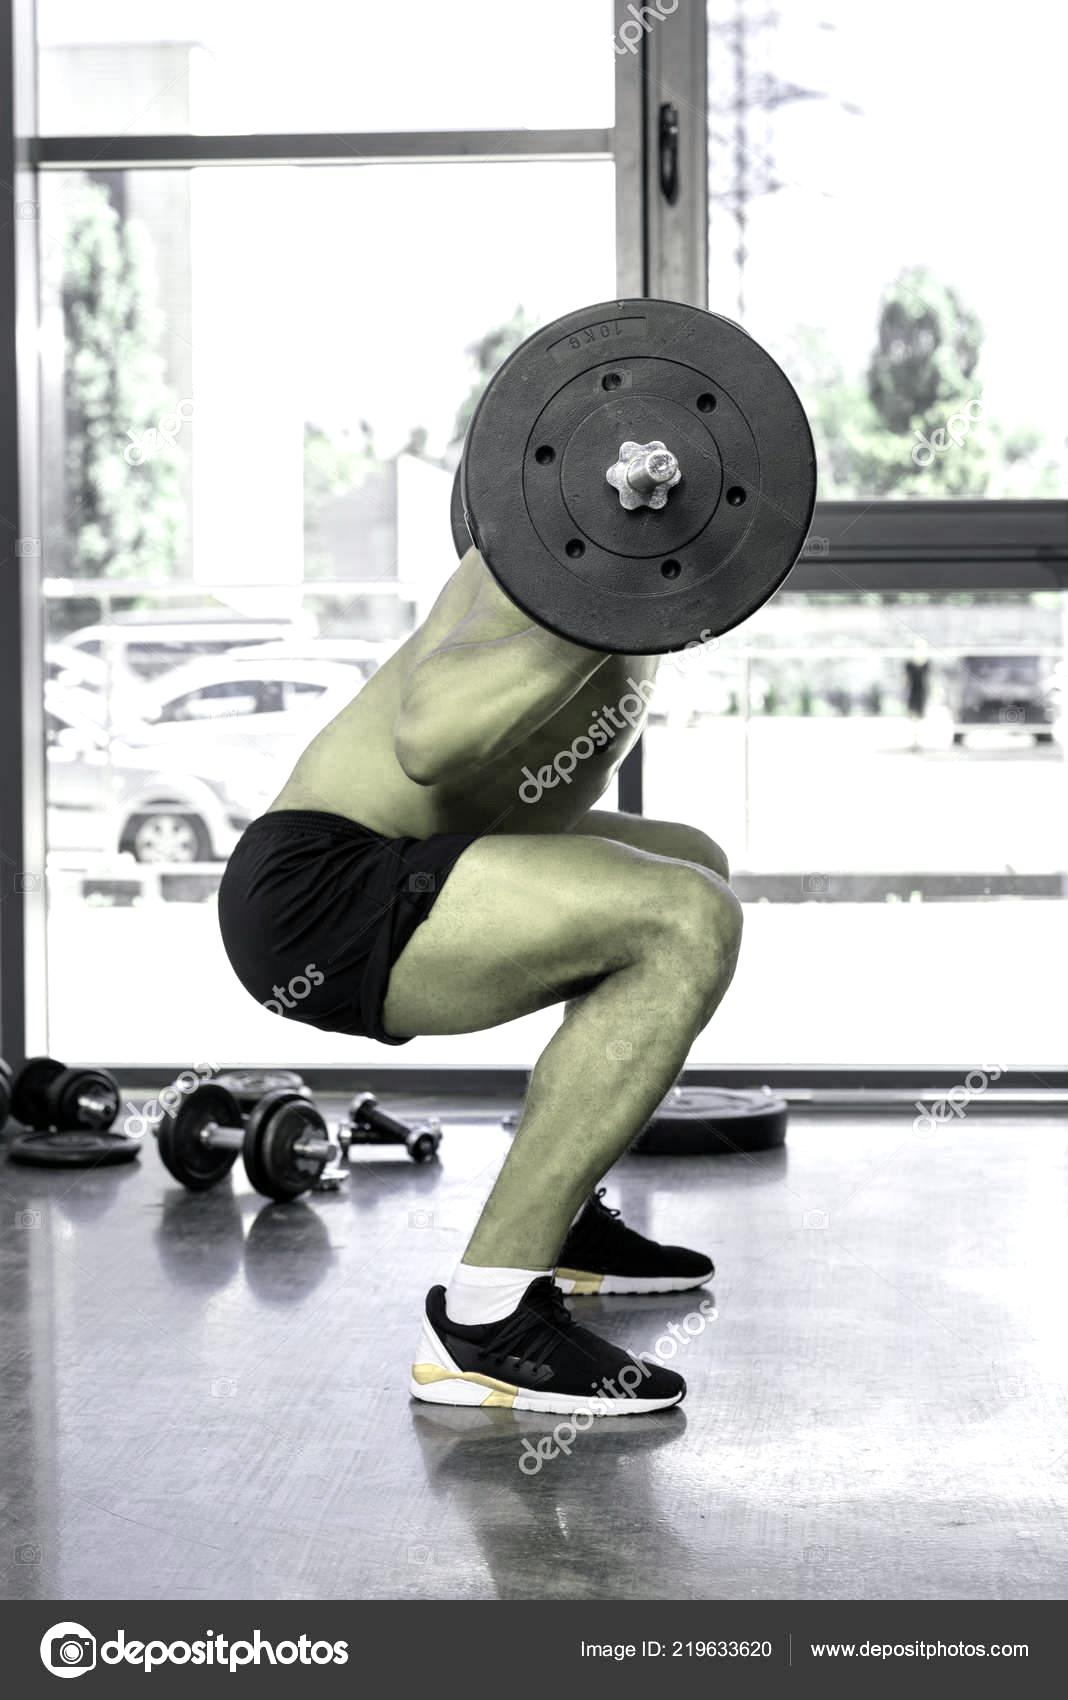Barbell: (639, 438, 688, 490)
